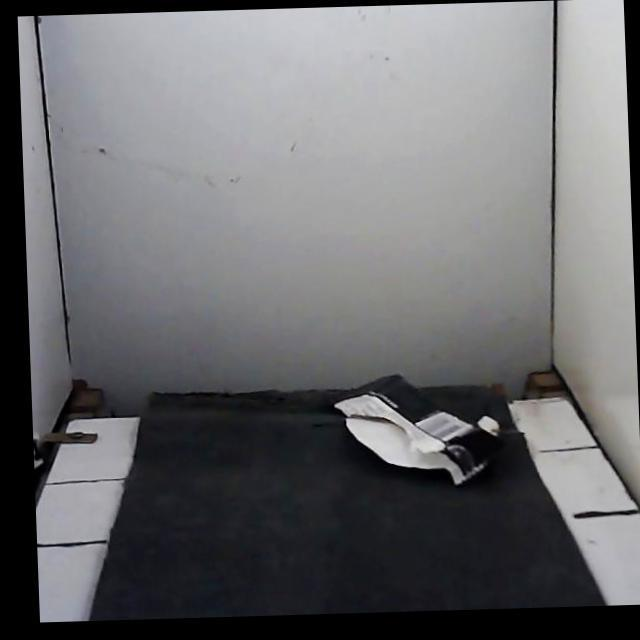plastico: (334, 376, 501, 484)
